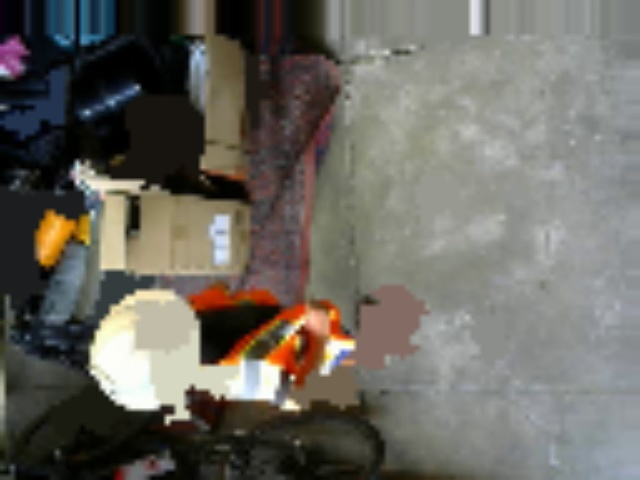one: (86, 364, 117, 394)
